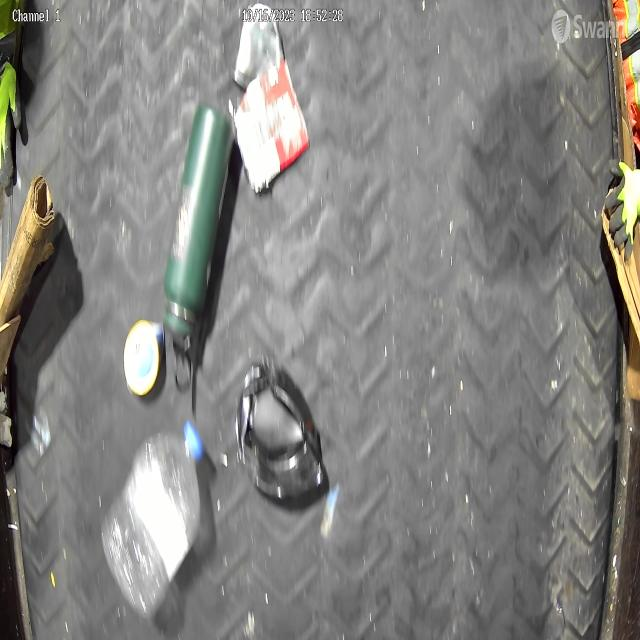can: (233, 4, 285, 92), (123, 320, 165, 396)
non_white_jug: (235, 358, 324, 500)
plastic_bottle: (101, 420, 204, 621)
